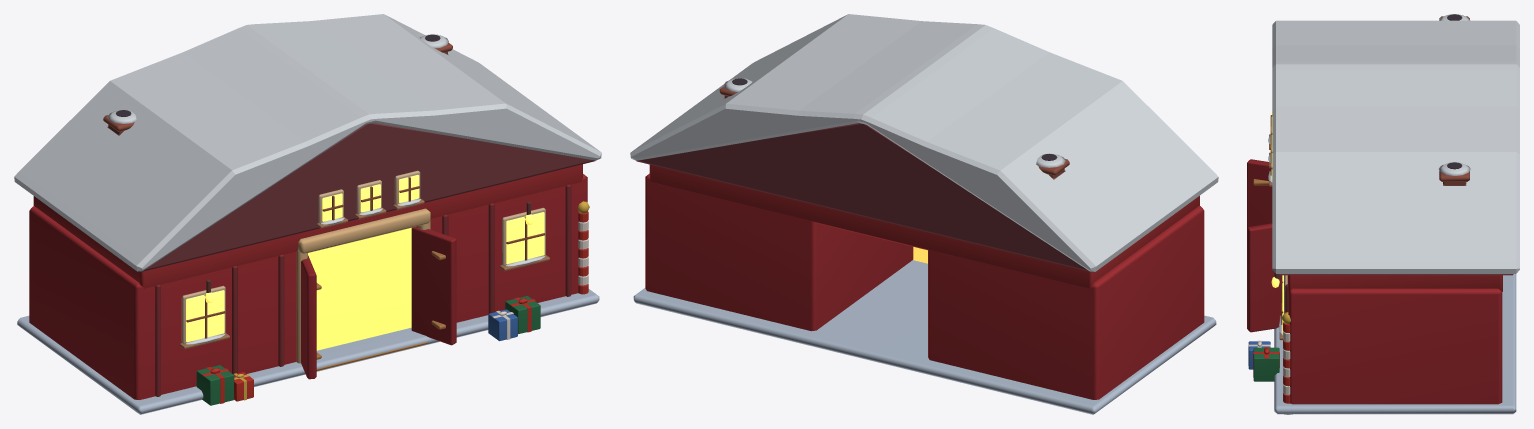
Rendered from workshop.glb.
3 views of the same model, side by side, from view 1: azimuth 30°, elevation 25°; view 2: azimuth 150°, elevation 25°; view 3: azimuth 270°, elevation 25° (orthographic). The views are drawn at different scales.
Parts seen in each view (by area): view 1: workshop; view 2: workshop; view 3: workshop.
Boxes of the visible parts, x1,y1,x2,y2 form: workshop: (14,14,601,414); workshop: (630,14,1218,414); workshop: (1247,14,1519,414).
Bounding box in the file's own units: 13.52 × 6.82 × 7.
